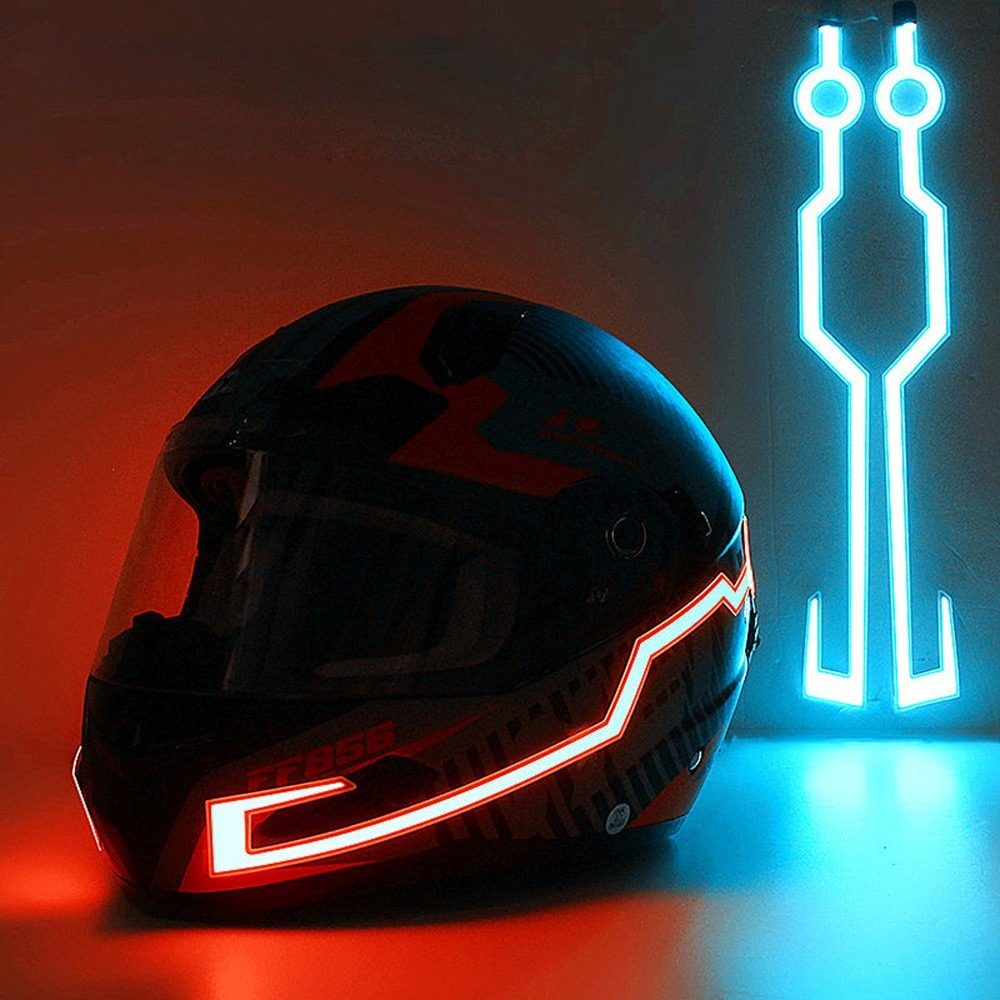helmet: (45, 260, 780, 938)
